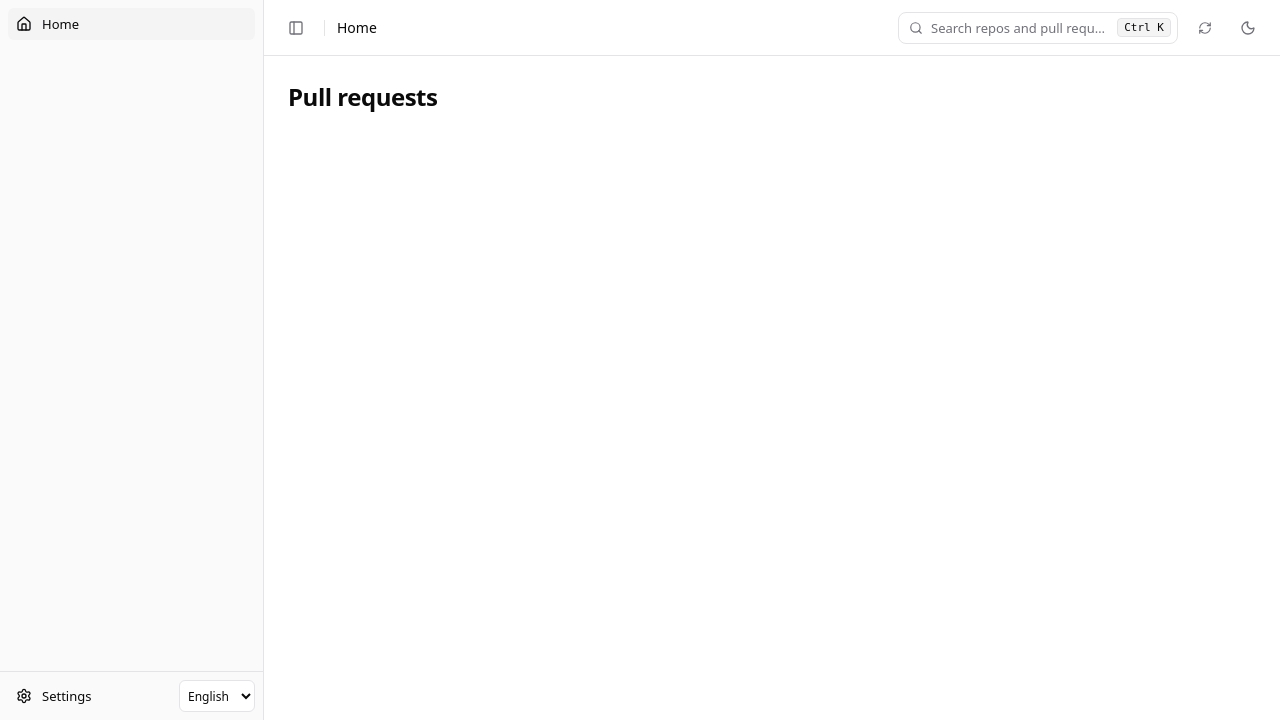
Test: the sidebar language picker translates the shell
This screenshot has width=1280, height=720.
Check: the heading "Pull requests" is shown, box [288, 80, 438, 113]
Select "Svenska" in the dropdown named "Language" at x=217, y=696, box [179, 680, 255, 712]
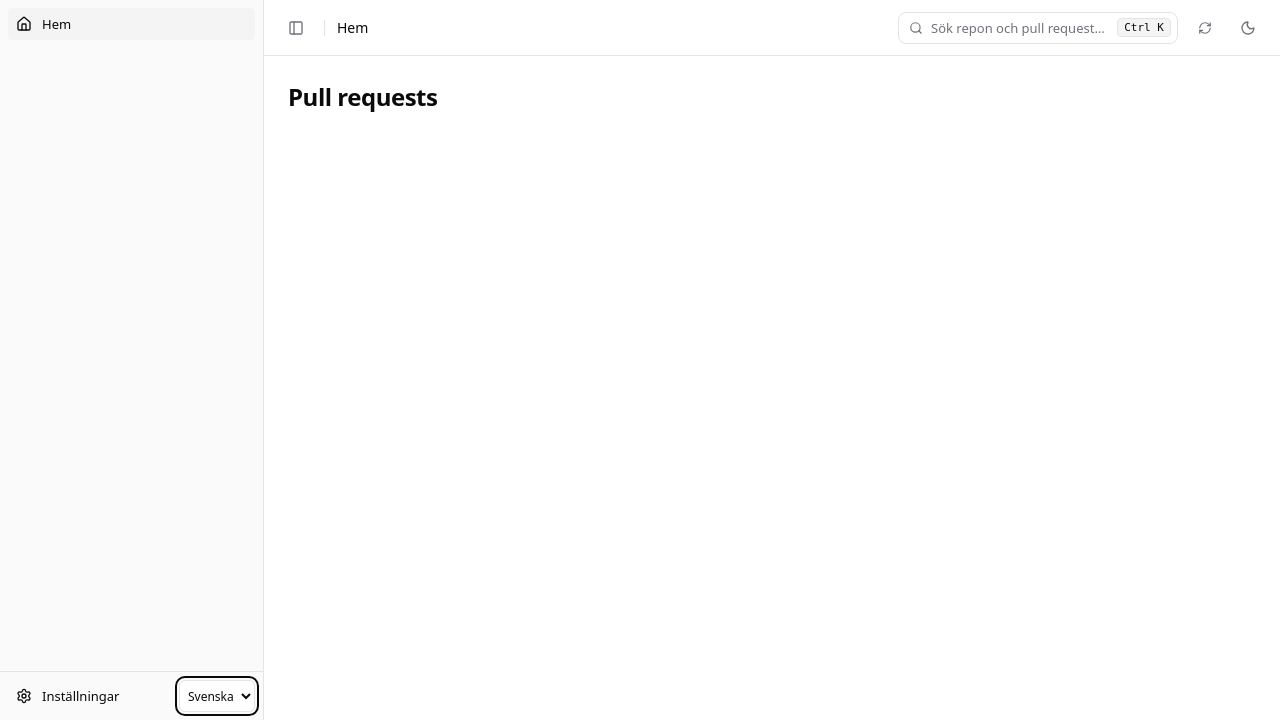
Check: the link "Inställningar" is shown, box [16, 687, 120, 705]
